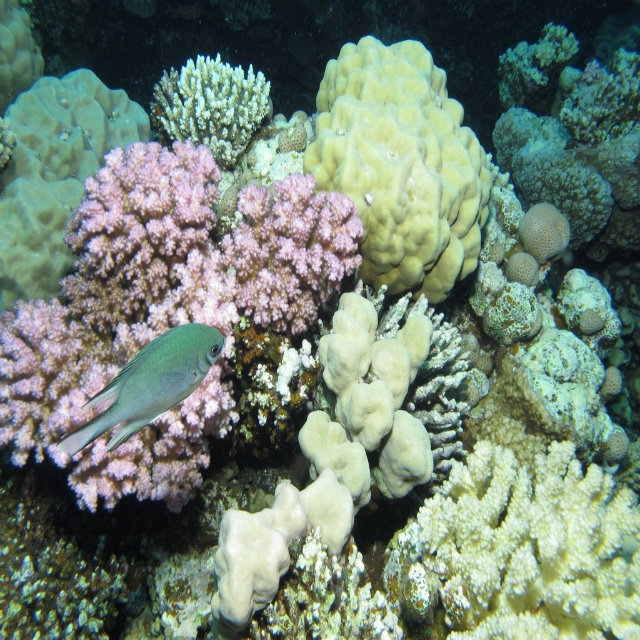Fish: (62, 323, 229, 483)
